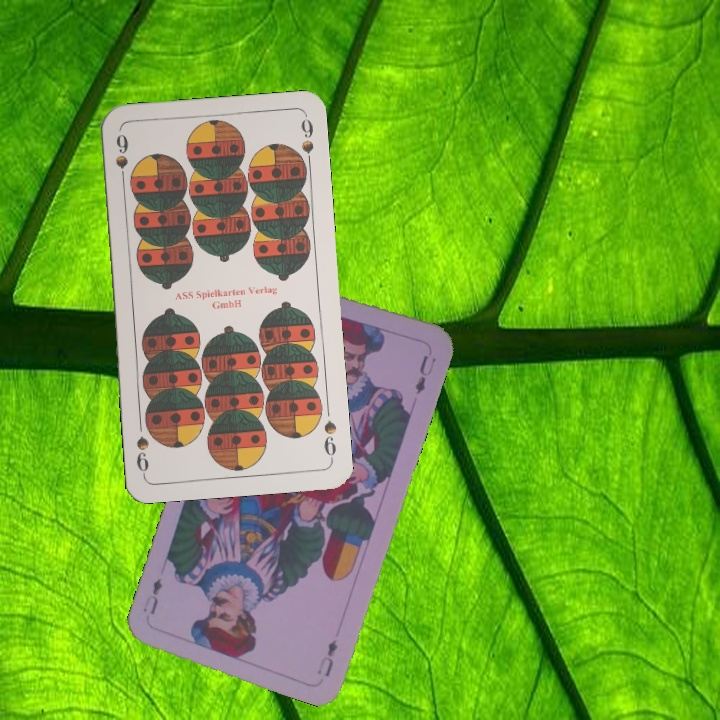EU: (313, 635, 341, 679)
S9: (111, 130, 131, 188), (319, 416, 339, 463)
